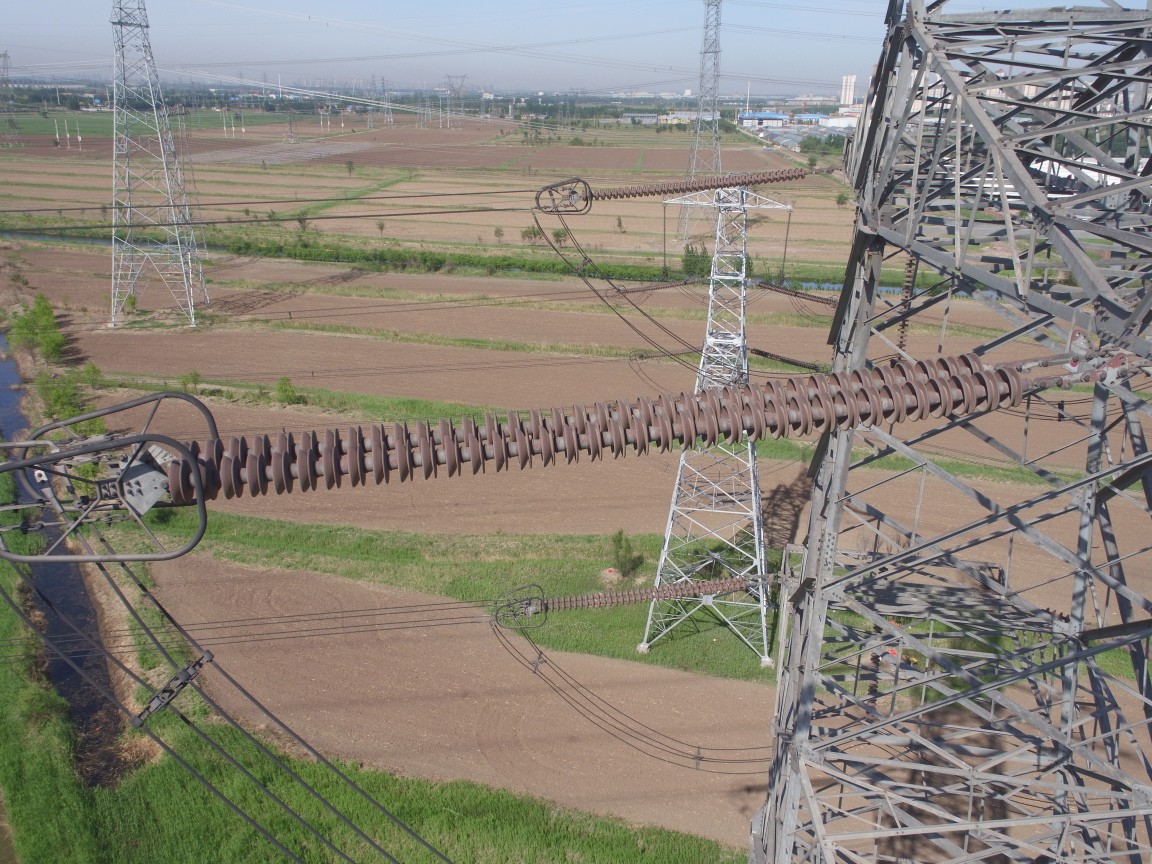insulator: (158, 347, 1061, 515), (583, 164, 822, 202), (534, 574, 756, 614)
